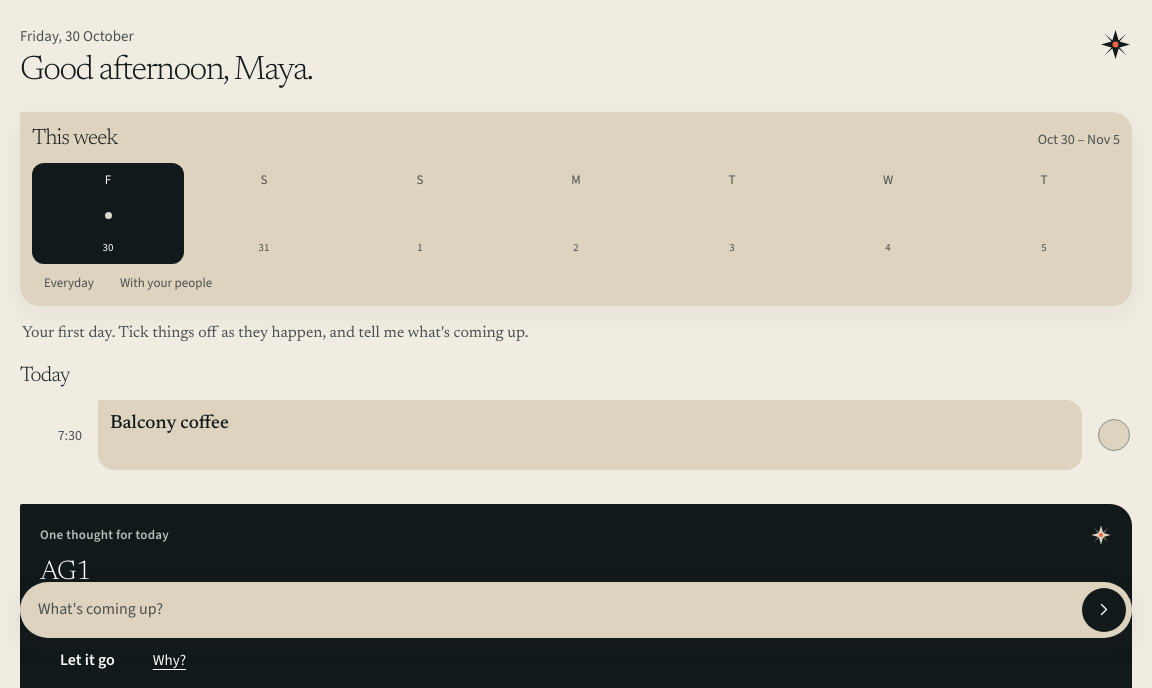
the Ritual tab › shows today as one line, ticks a part off, and keeps what is theirs locked
Expected: the text "Balcony coffee" is shown, left=110, top=414, right=229, bottom=433
Expected: the text "7:30" is shown, left=58, top=426, right=82, bottom=444
Click the button named "Mark Balcony coffee done": click(1114, 435) left=1098, top=419, right=1130, bottom=451
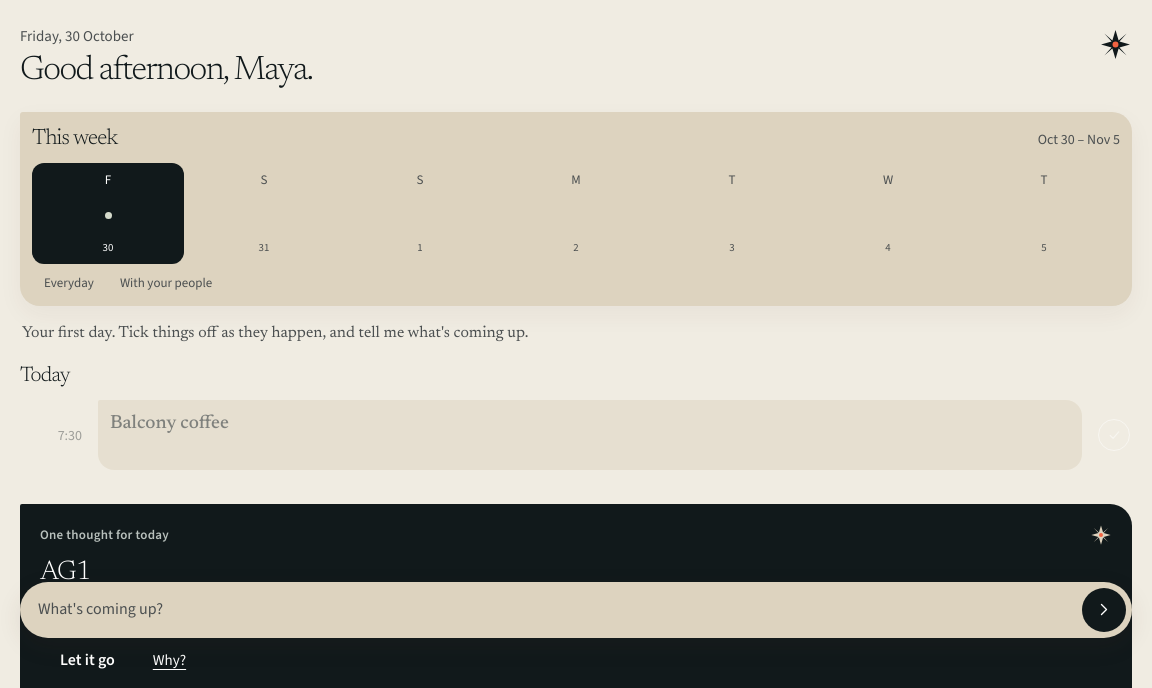
// Saturday from the week strip: Pilates, locked.
Click the button named "Saturday": click(264, 214) left=188, top=163, right=340, bottom=264
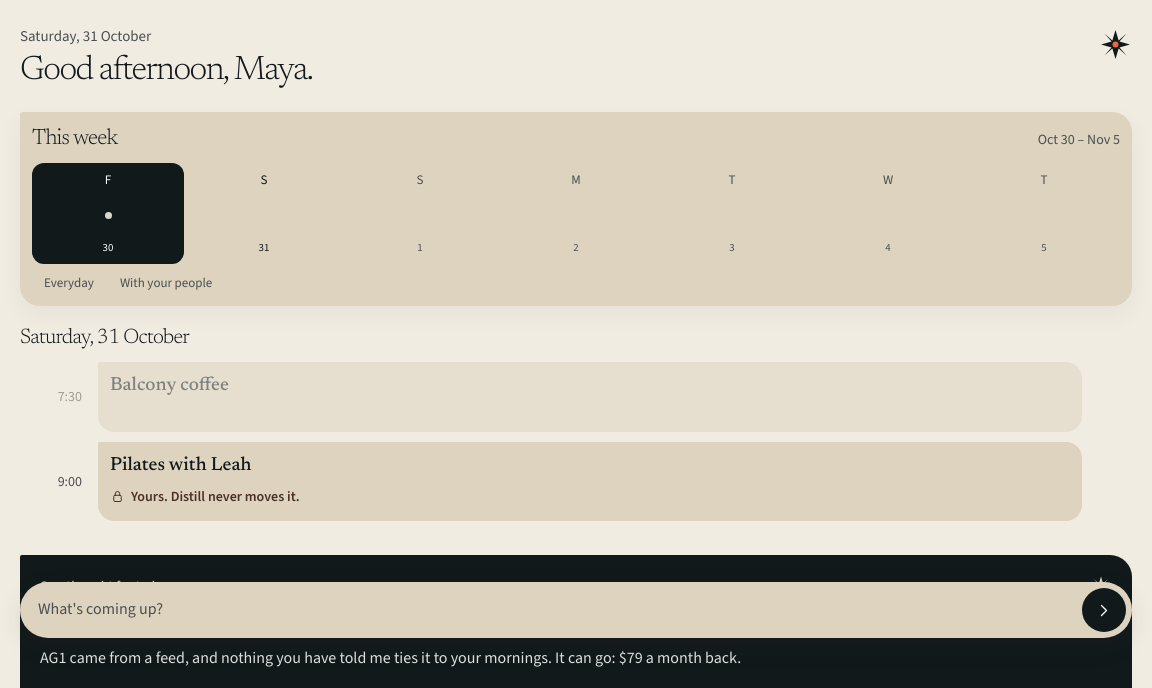
Now the text "Pilates with Leah" is shown, box left=110, top=456, right=252, bottom=475
Now the text "Yours. Distill never moves it." is shown, box left=110, top=487, right=300, bottom=506
